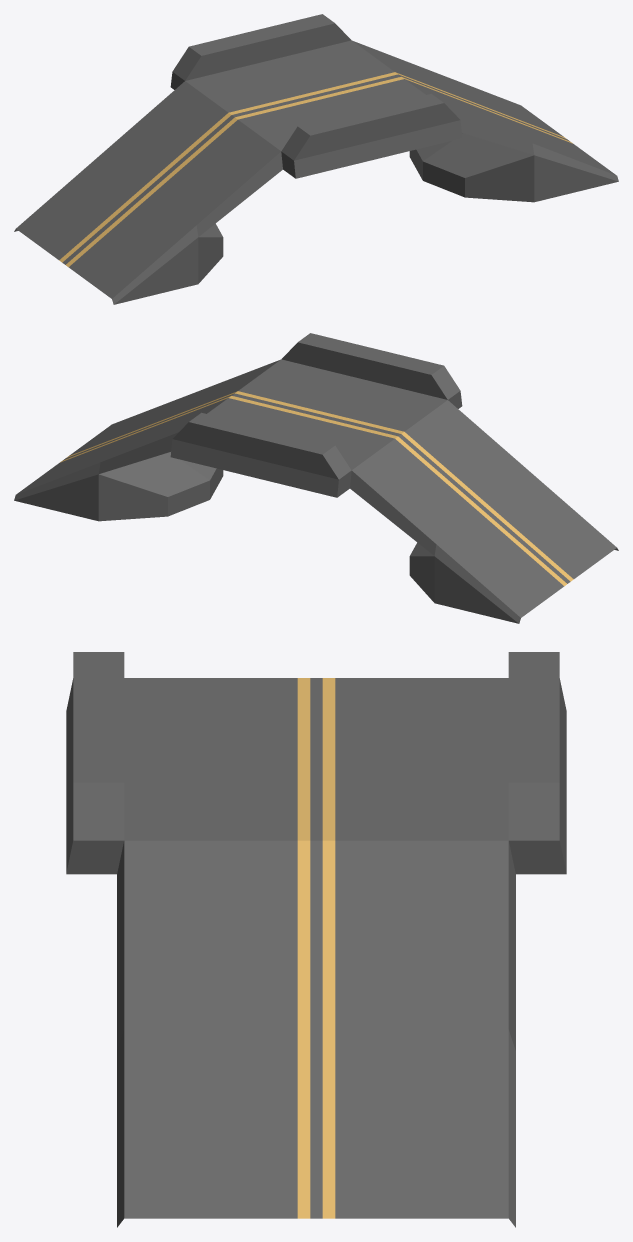
The model's file is Puente.fbx.
3 renders of one model, top to bottom at view 1: azimuth 30°, elevation 25°; view 2: azimuth 150°, elevation 25°; view 3: azimuth 270°, elevation 25°, orthographic. The views are drawn at different scales.
Parts seen in each view (by area): view 1: Puente; view 2: Puente; view 3: Puente.
Boxes of the visible parts, x1,y1,x2,y2 form: Puente: (14,14,618,304); Puente: (14,333,618,623); Puente: (66,652,566,1227).
Bounding box in the file's own units: 910 × 227 × 390.
